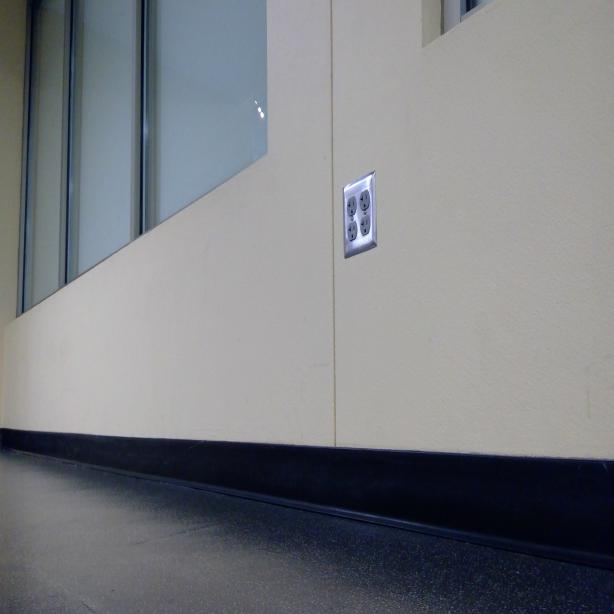typeb: (345, 220, 358, 242), (358, 187, 370, 210), (346, 195, 357, 216), (360, 216, 372, 234)
